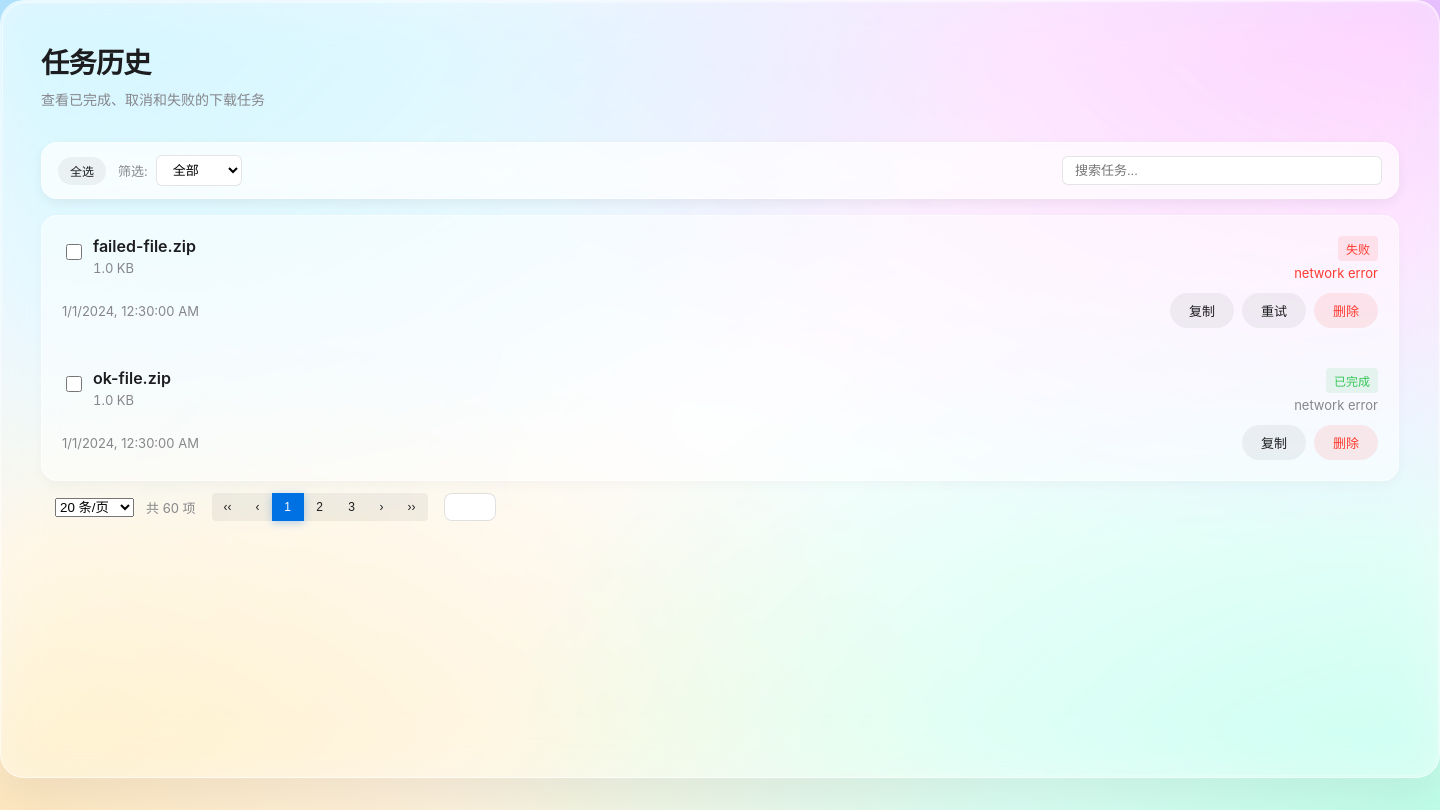
Scenario: HistoryPage › filter and search › stale paged response cannot overwrite newer filter results
expect the text "共 60 项" is shown: met, box 146,498 -> 196,516
Click the button "2".
click(320, 507)  # box 304,493 -> 336,521
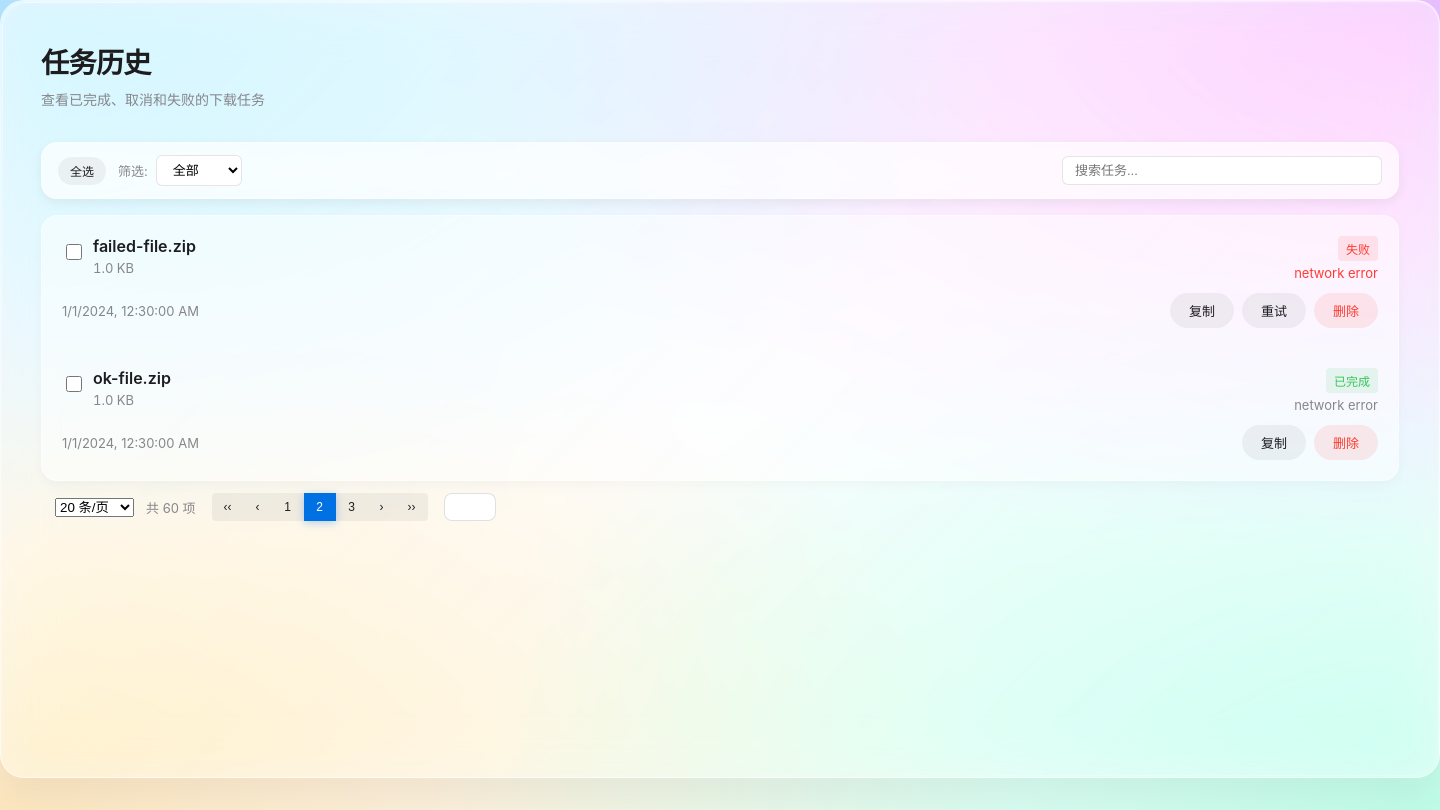
Click the button "3".
click(352, 507)  # box 336,493 -> 368,521
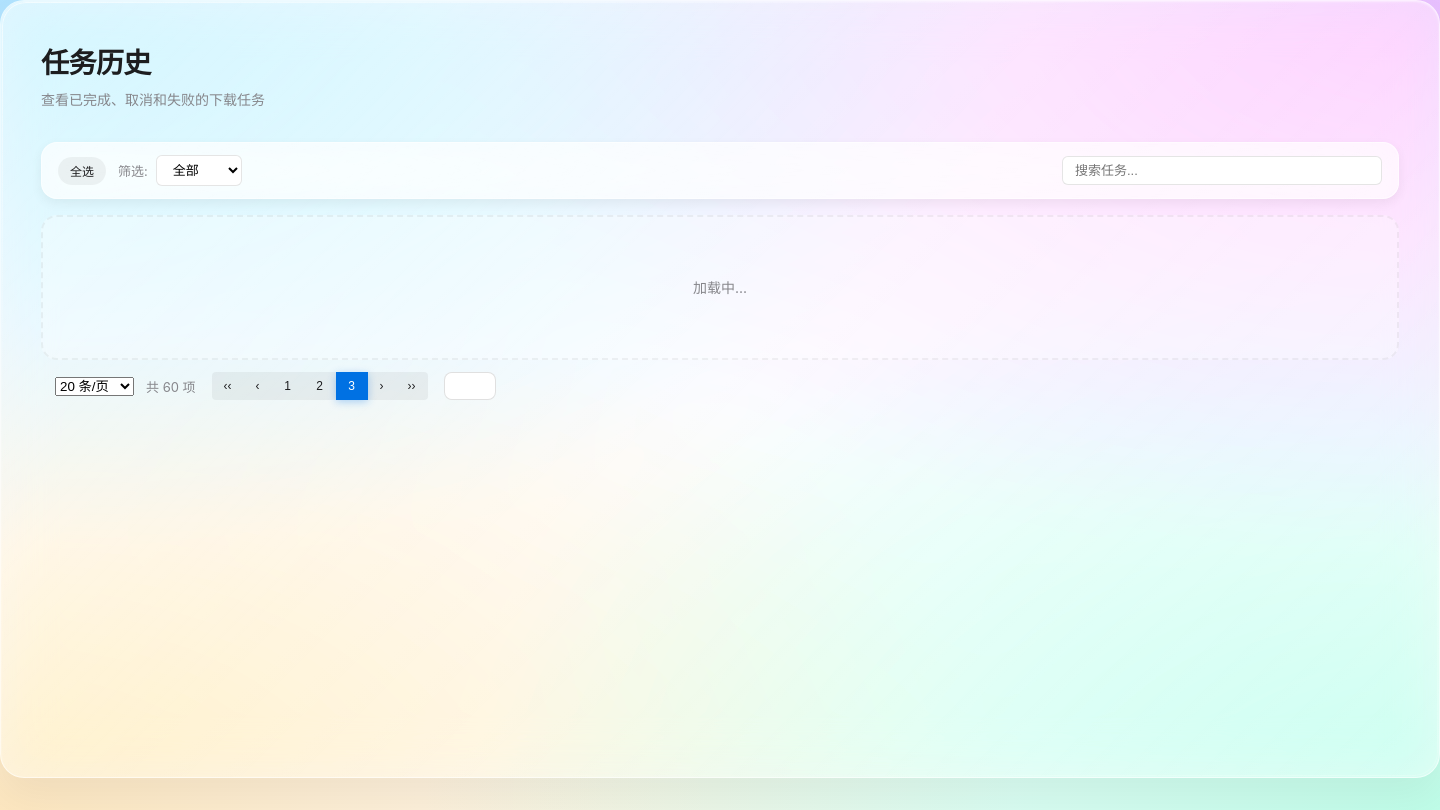
Select "已完成" in the dropdown named "筛选历史" at (199, 170), box 156,155 -> 242,186
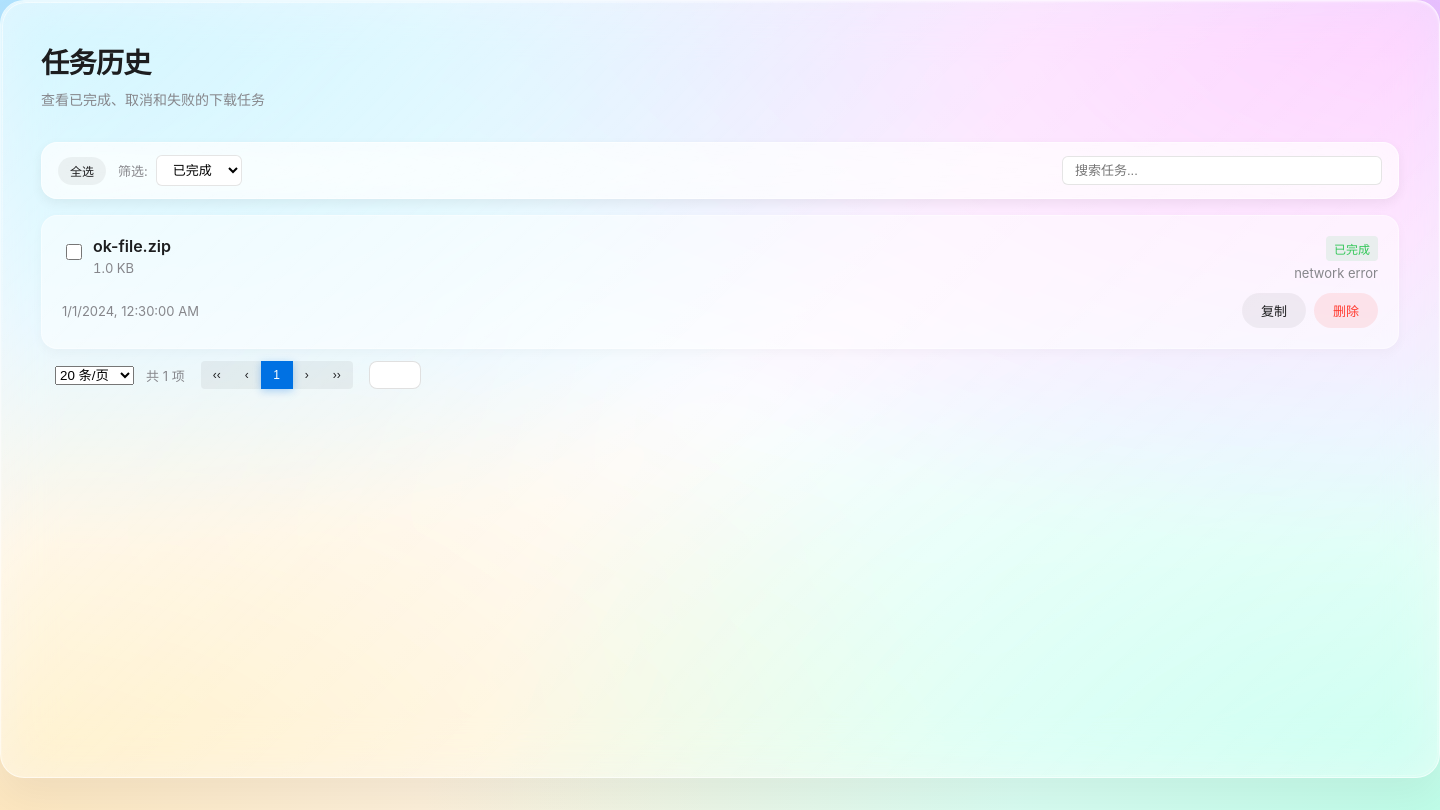
expect the button "failed-file.zip" is not shown: met
expect the heading "ok-file.zip" is shown: met, box 93,236 -> 171,256
